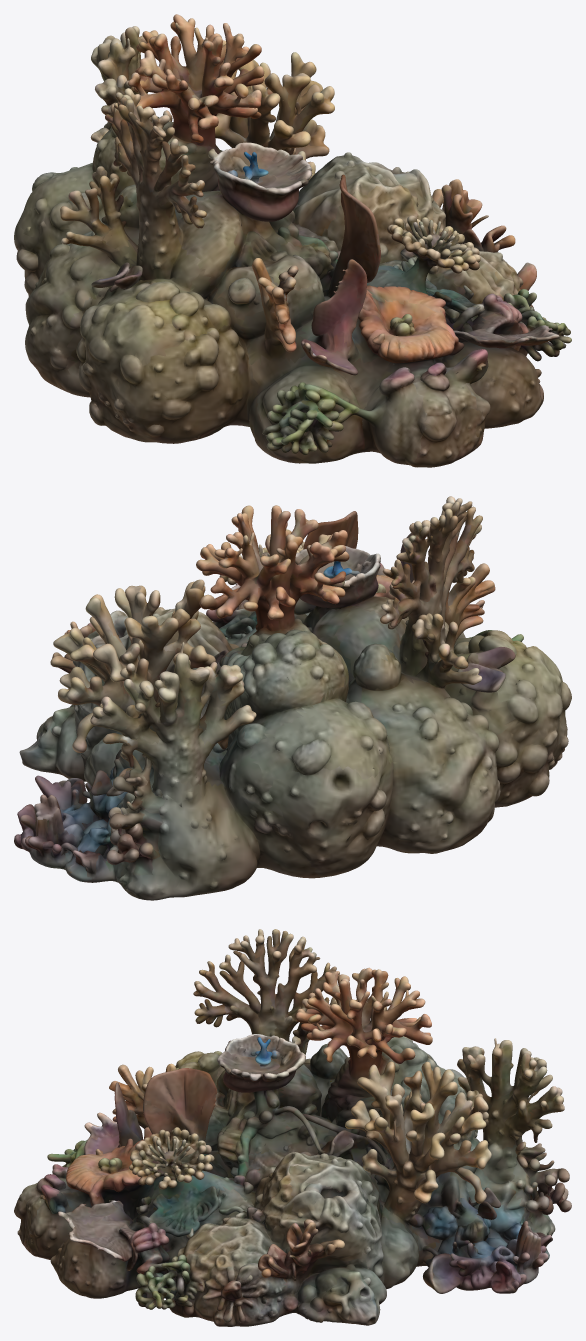
Rendered from Reef.glb.
3 renders of one model, top to bottom at view 1: azimuth 30°, elevation 25°; view 2: azimuth 150°, elevation 25°; view 3: azimuth 270°, elevation 25°, orthographic. The views are drawn at different scales.
Visible parts, largest first — view 1: tripo_node_4dfc9400-52df-48c6-86c6-679832956cac; view 2: tripo_node_4dfc9400-52df-48c6-86c6-679832956cac; view 3: tripo_node_4dfc9400-52df-48c6-86c6-679832956cac.
Part boxes in pixels (box(x1,y1,x2,y2)): tripo_node_4dfc9400-52df-48c6-86c6-679832956cac: box(14, 14, 571, 467); tripo_node_4dfc9400-52df-48c6-86c6-679832956cac: box(14, 496, 571, 900); tripo_node_4dfc9400-52df-48c6-86c6-679832956cac: box(14, 929, 571, 1326).
Bounding box in the file's own units: 0.7857 × 0.497 × 1.
1 material, 1 textured.
